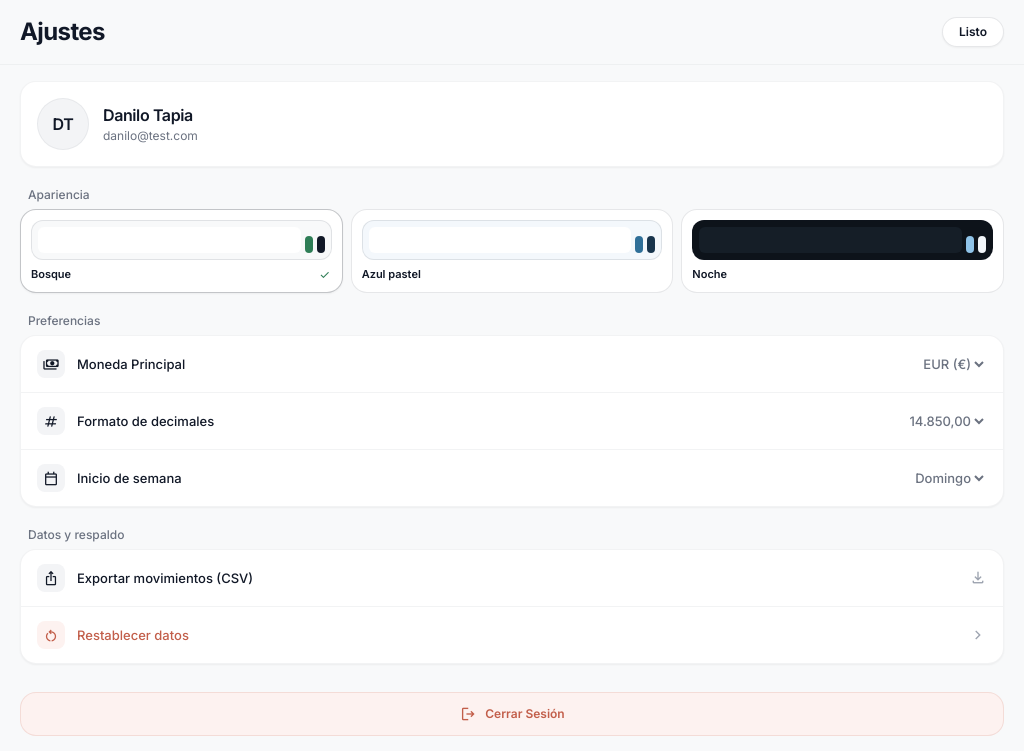
Test case: SettingsScreen › restablece los datos sin eliminar las cuentas
Expected: the heading "Danilo Tapia" is shown, [103, 105, 193, 125]
Click the text "Restablecer datos".
click(133, 635)  # box [77, 627, 189, 643]
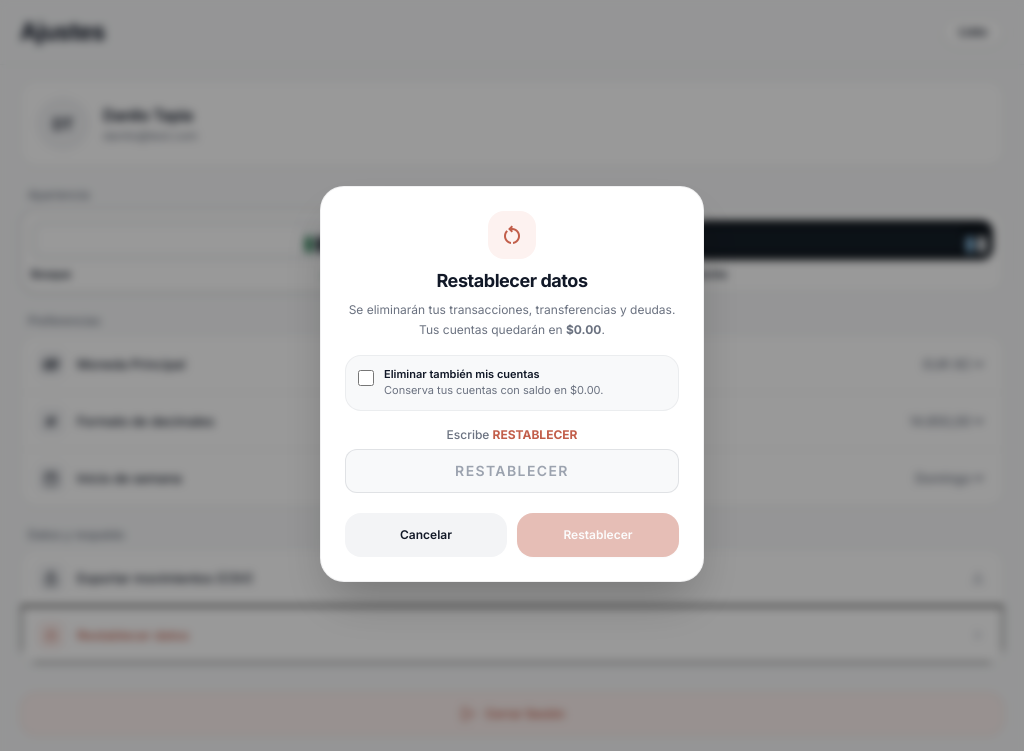
Type "restablecer" into the field with placeholder "RESTABLECER".
click(512, 471); type("restablecer")  # box [345, 449, 679, 493]
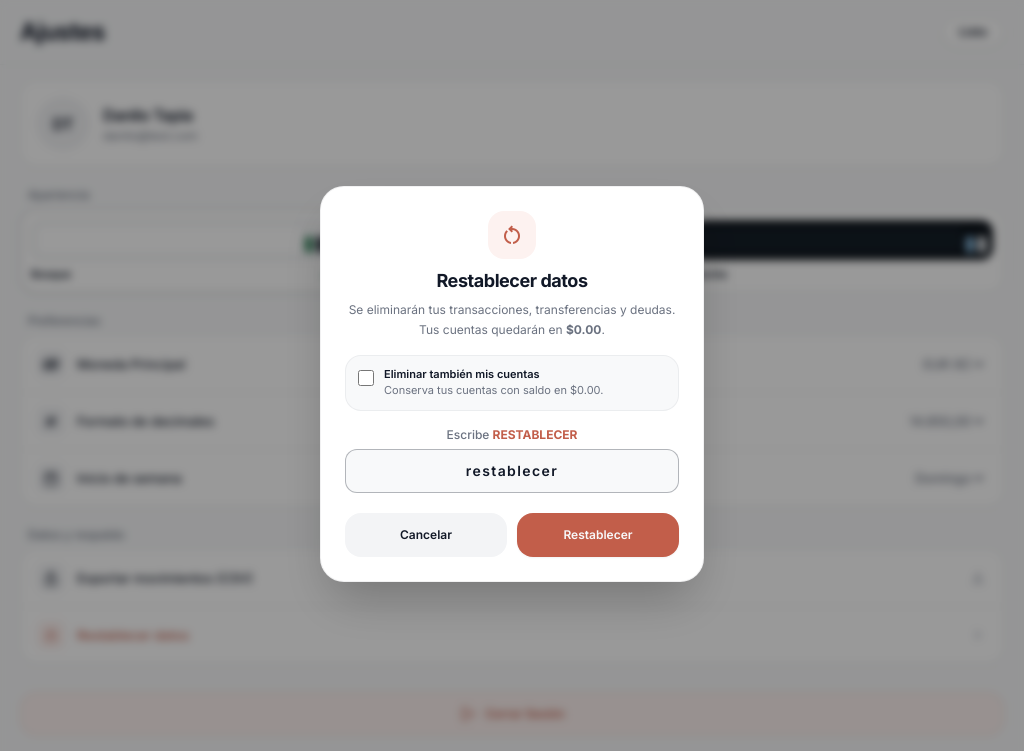
Click the button "Restablecer".
click(598, 535)  # box [517, 513, 679, 557]
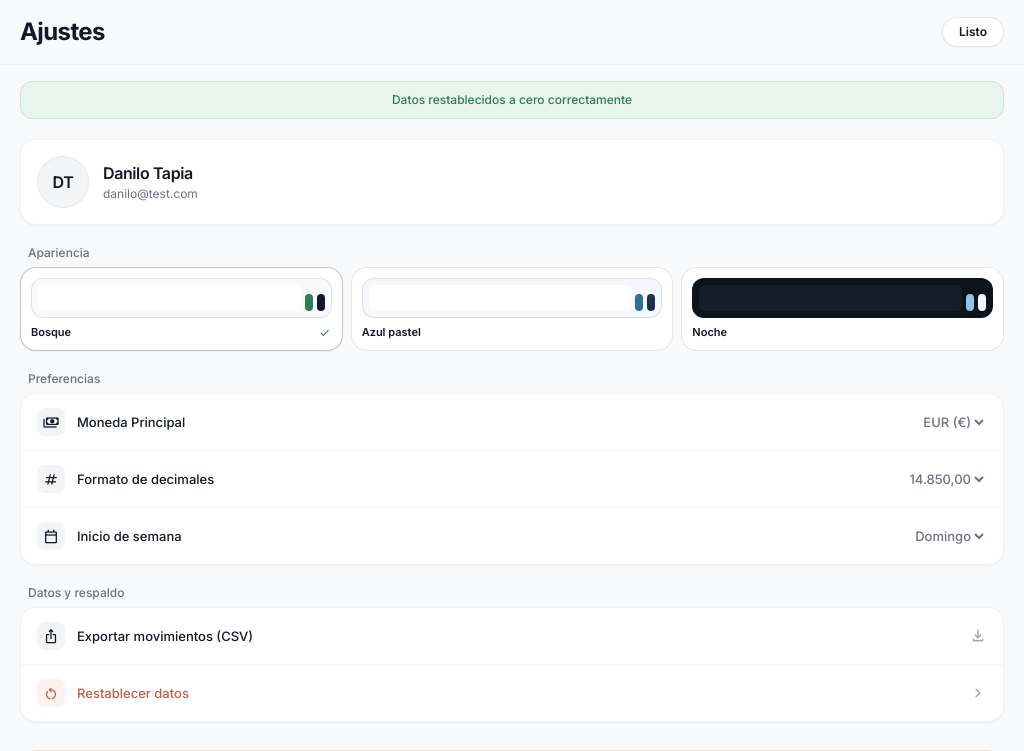
Now the text "Datos restablecidos a cero correctamente" is shown, box [20, 81, 1004, 119]
